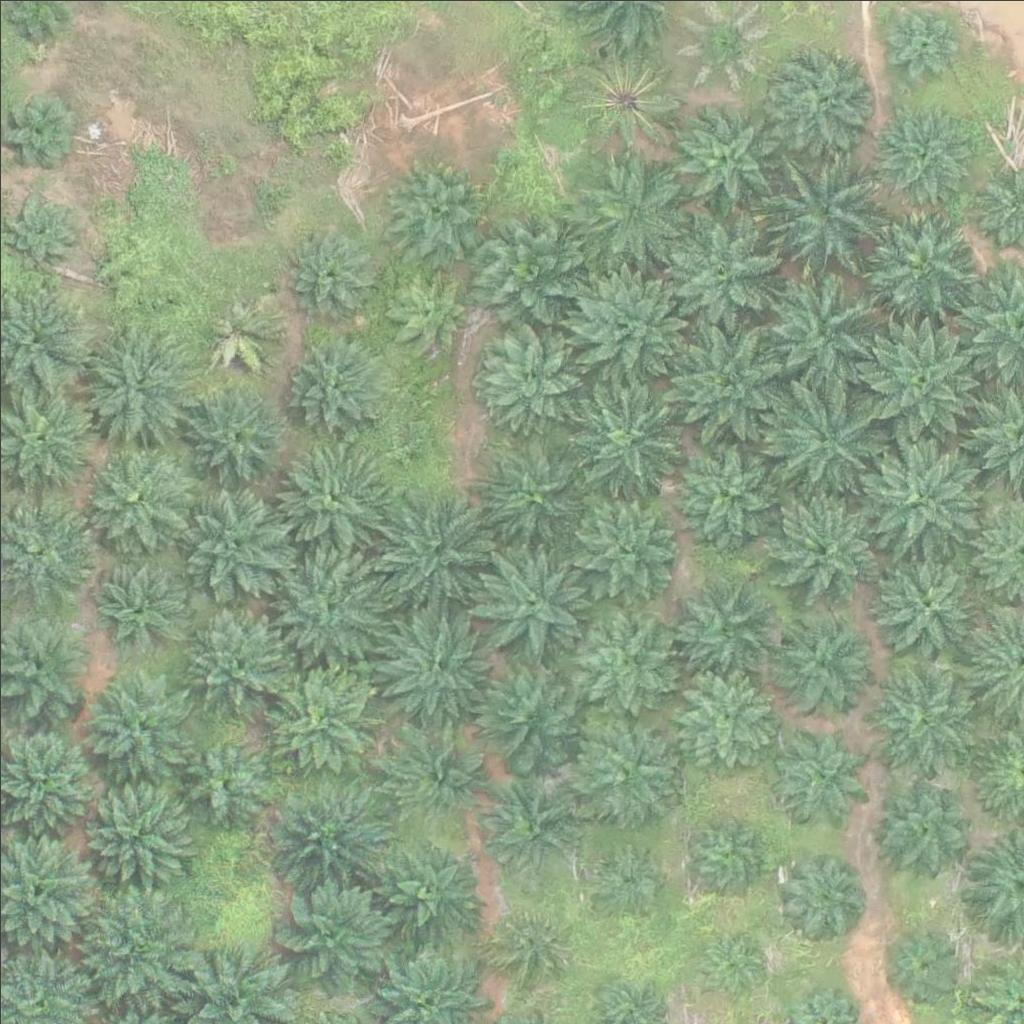Kelapa_Sawit: (470, 536, 595, 662), (270, 871, 395, 997), (70, 879, 195, 1005), (472, 314, 597, 440), (467, 212, 592, 338), (568, 374, 693, 500), (571, 265, 696, 391), (574, 148, 699, 274), (670, 431, 795, 557), (665, 321, 790, 447), (665, 211, 790, 337), (758, 481, 883, 607), (761, 373, 886, 499), (763, 272, 888, 398), (763, 148, 888, 274), (855, 438, 980, 564), (857, 318, 982, 444), (858, 204, 983, 330), (865, 663, 978, 777), (76, 773, 189, 887), (869, 551, 982, 664), (474, 658, 587, 771), (378, 604, 491, 717), (78, 669, 191, 782), (85, 551, 198, 664), (276, 444, 389, 557), (280, 331, 393, 444), (382, 492, 495, 605), (669, 101, 782, 214), (569, 718, 681, 831), (567, 603, 679, 716), (369, 832, 481, 945), (382, 716, 494, 829), (270, 779, 382, 892), (265, 660, 377, 773), (272, 550, 384, 663), (184, 605, 296, 718), (80, 440, 192, 553), (81, 326, 193, 439), (180, 489, 292, 602), (478, 439, 590, 552), (569, 487, 681, 600), (765, 44, 877, 157), (282, 223, 382, 324), (377, 263, 477, 364), (874, 103, 974, 204), (871, 774, 971, 874), (769, 725, 869, 825), (767, 610, 867, 710), (676, 664, 776, 764), (677, 576, 777, 676), (386, 165, 486, 265), (572, 50, 672, 150), (196, 286, 284, 375), (776, 851, 864, 939), (681, 808, 769, 896), (179, 738, 267, 826), (189, 386, 277, 474), (485, 785, 572, 873), (880, 922, 955, 998), (491, 905, 566, 980), (884, 7, 959, 82), (588, 839, 663, 914), (2, 191, 77, 266), (1, 92, 76, 167), (702, 929, 764, 992)
